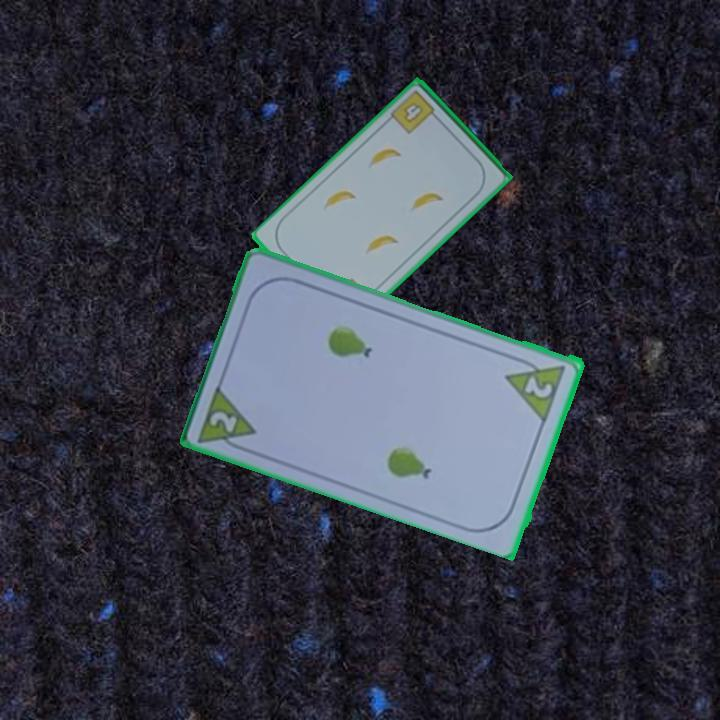2p: (503, 352, 570, 423), (206, 407, 241, 436)
4b: (389, 87, 442, 137)
